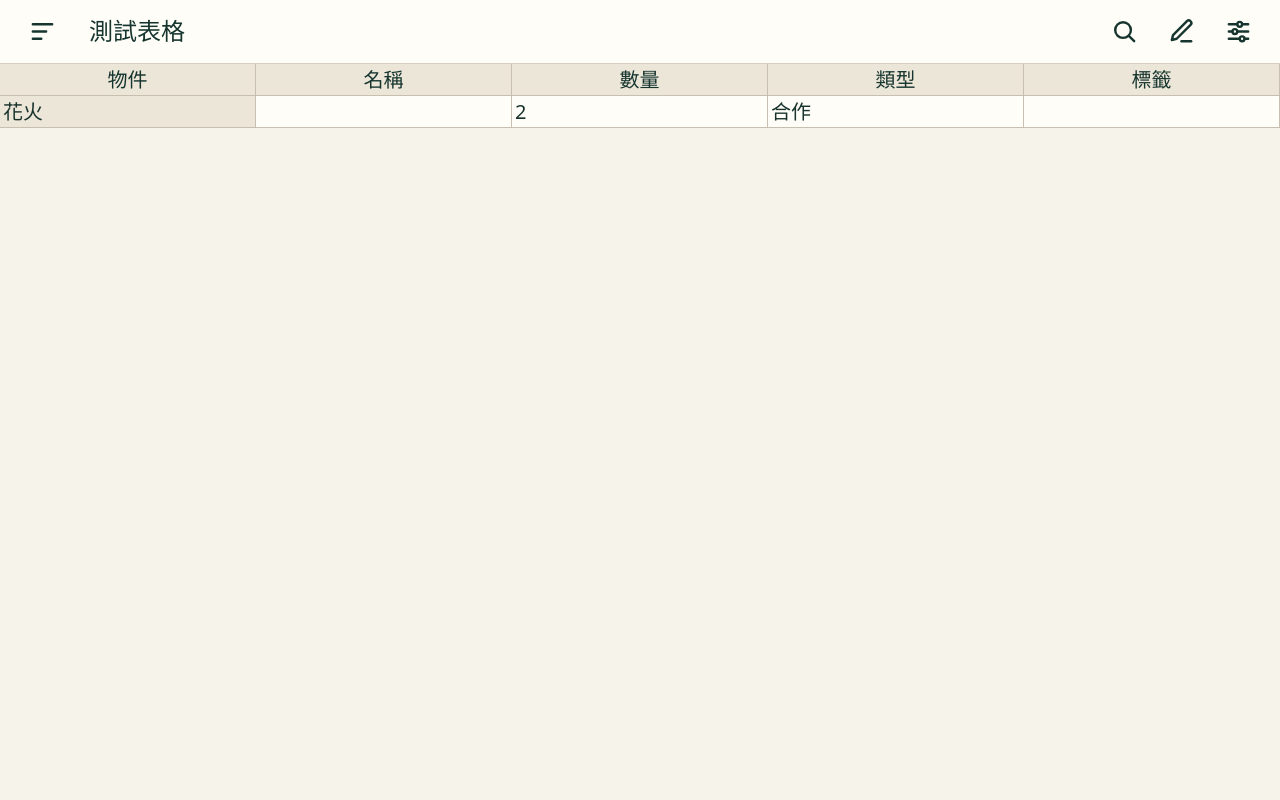
Test case: WorkspacePage › saves a cell draft on escape exactly once
Click the cell named "花火，名稱：空白" at x=384, y=112, box left=256, top=96, right=512, bottom=128
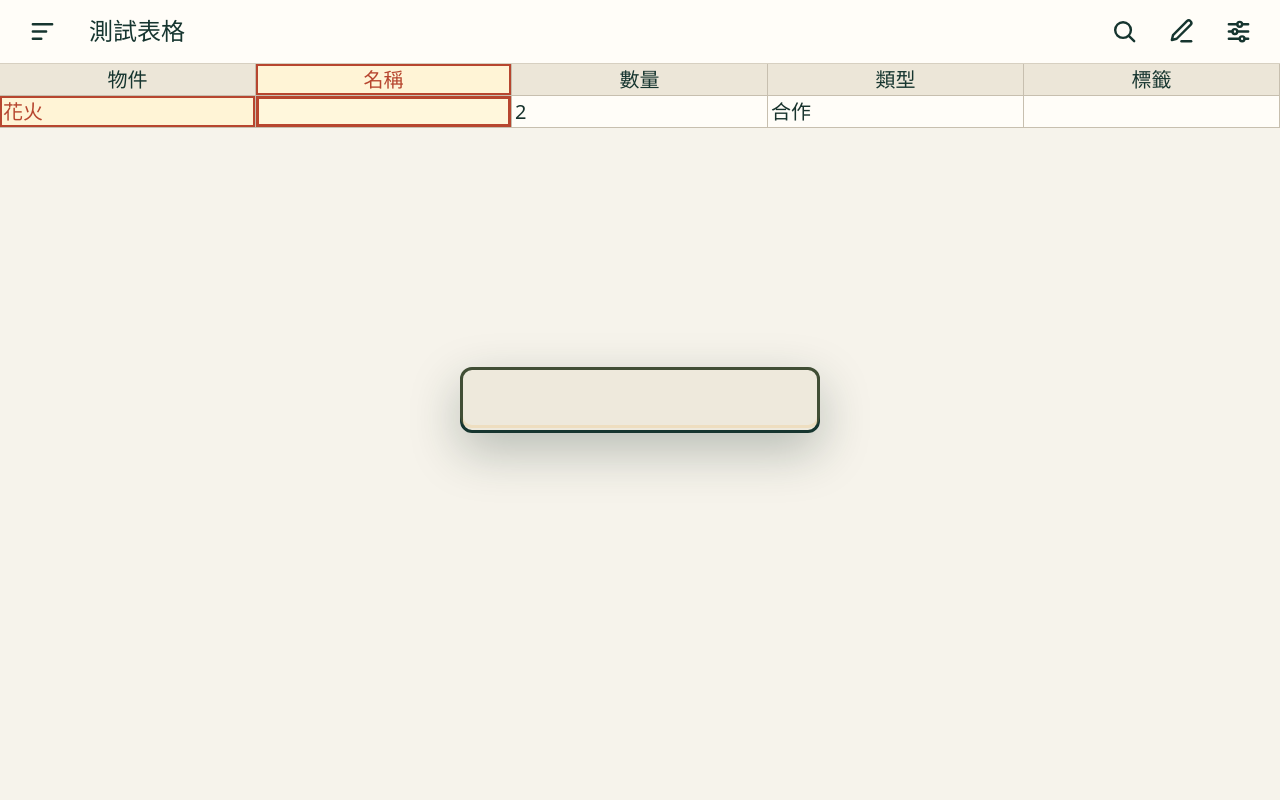
Type "已儲存" into the text box named "名稱輸入" at x=640, y=398, box left=463, top=370, right=817, bottom=425
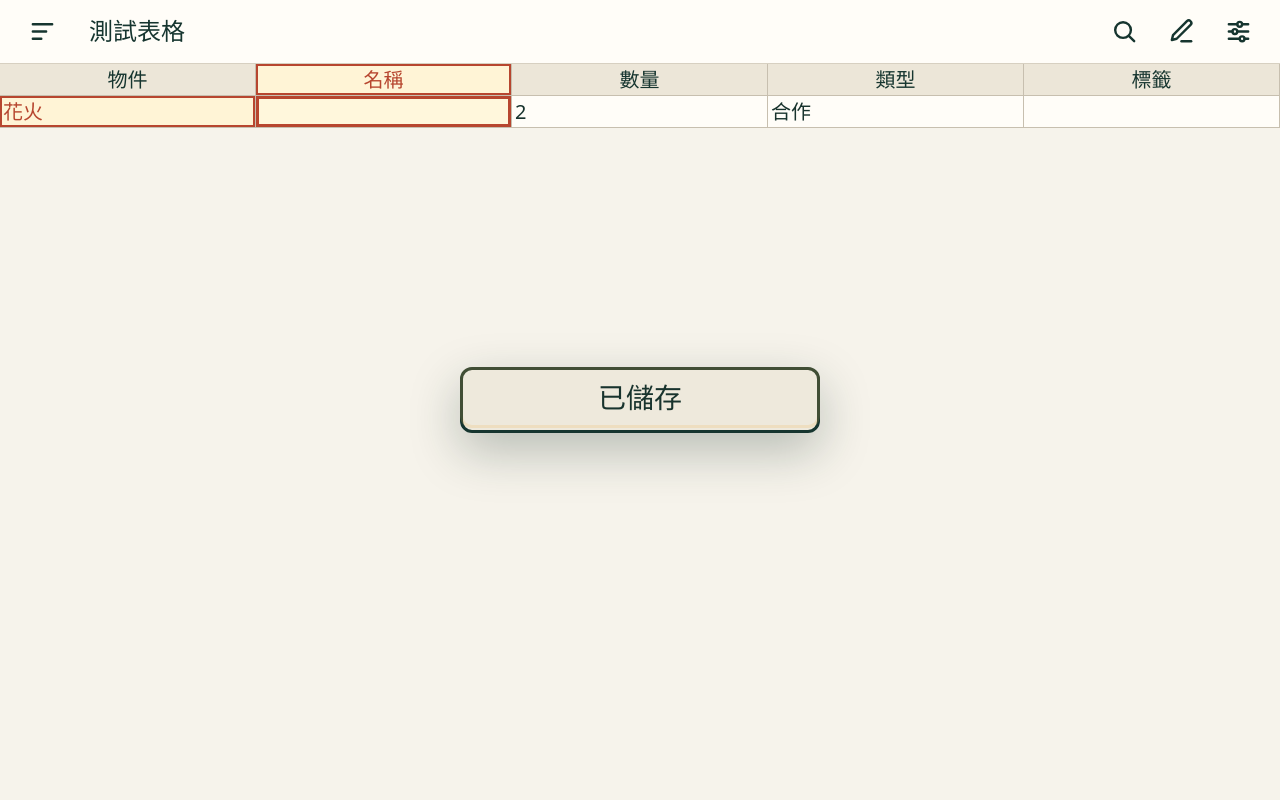
Press Escape
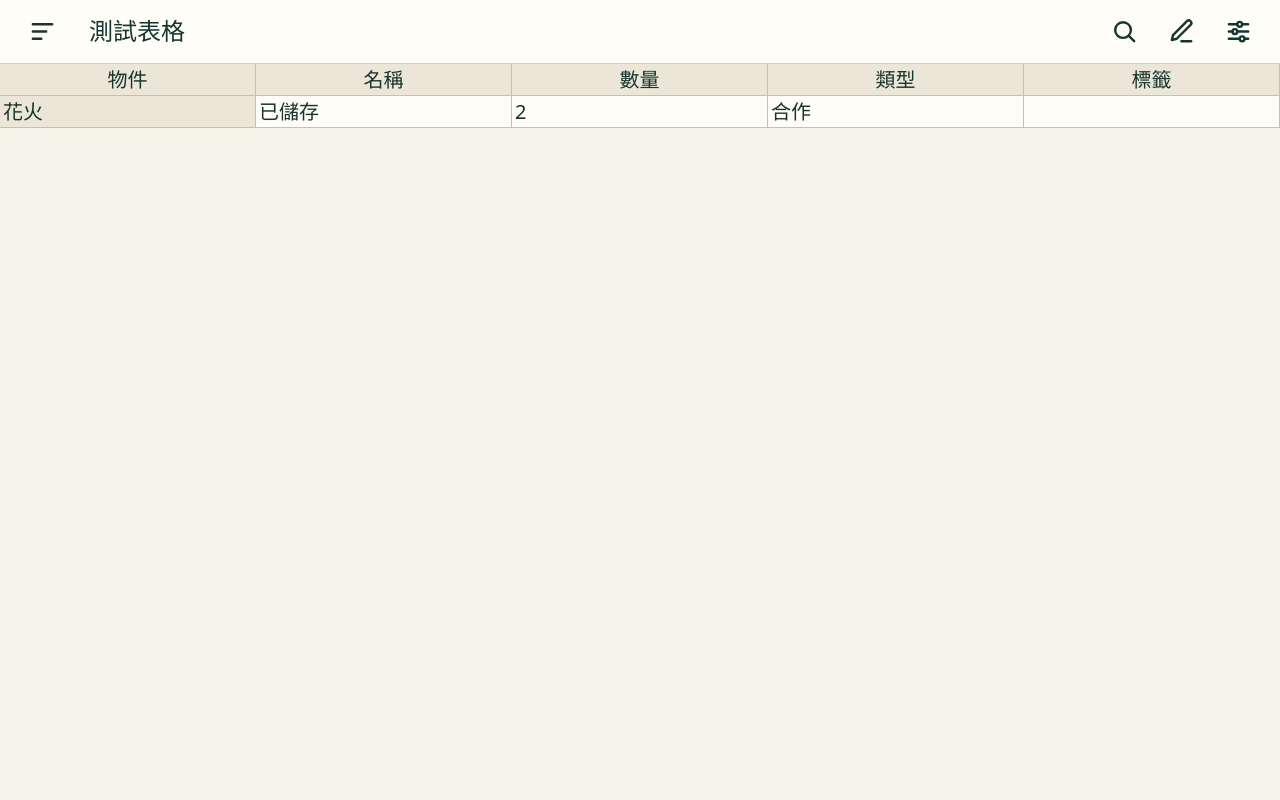
Expected: the cell named "花火，名稱：已儲存" is shown, left=256, top=96, right=512, bottom=128
